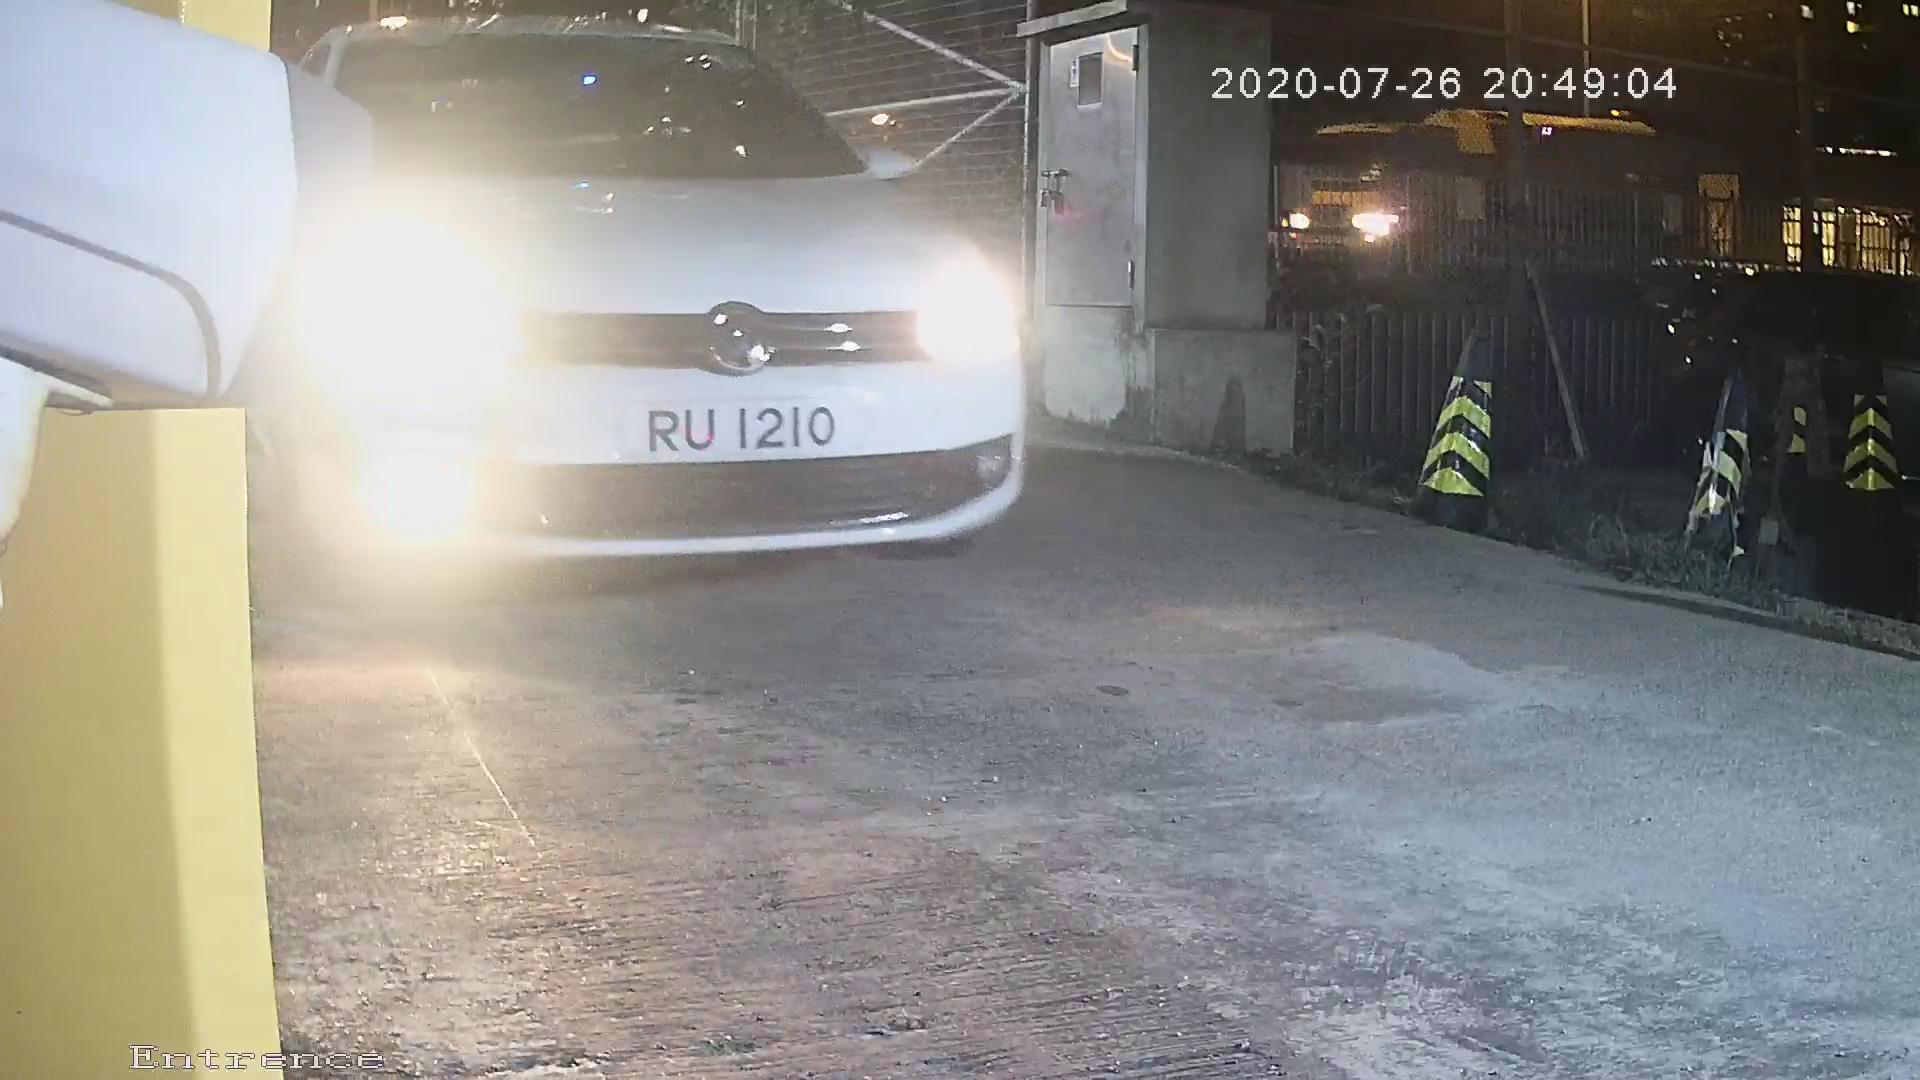License Plate: (583, 367, 883, 487)
